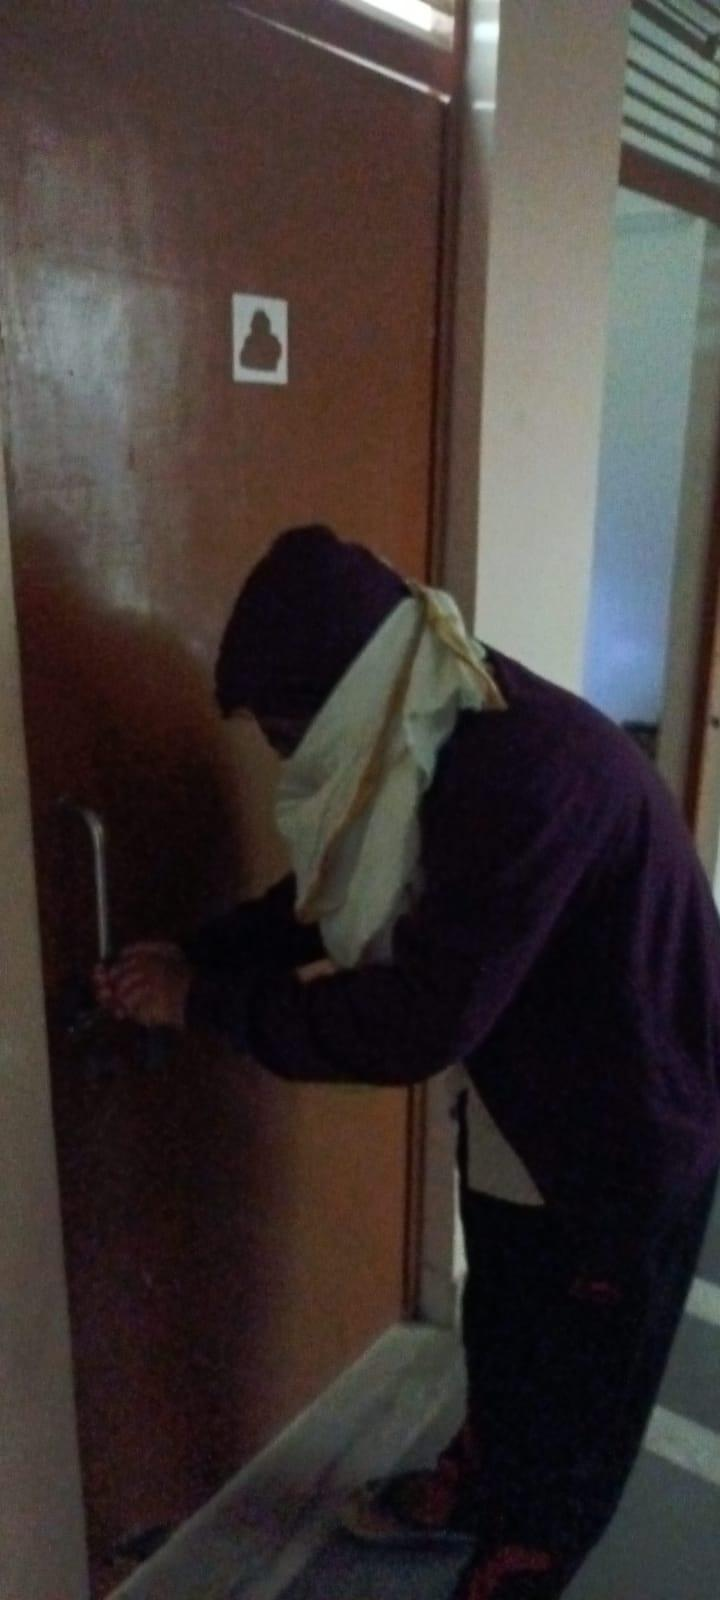suspicion: (45, 476, 720, 1600), (190, 510, 720, 1600)
